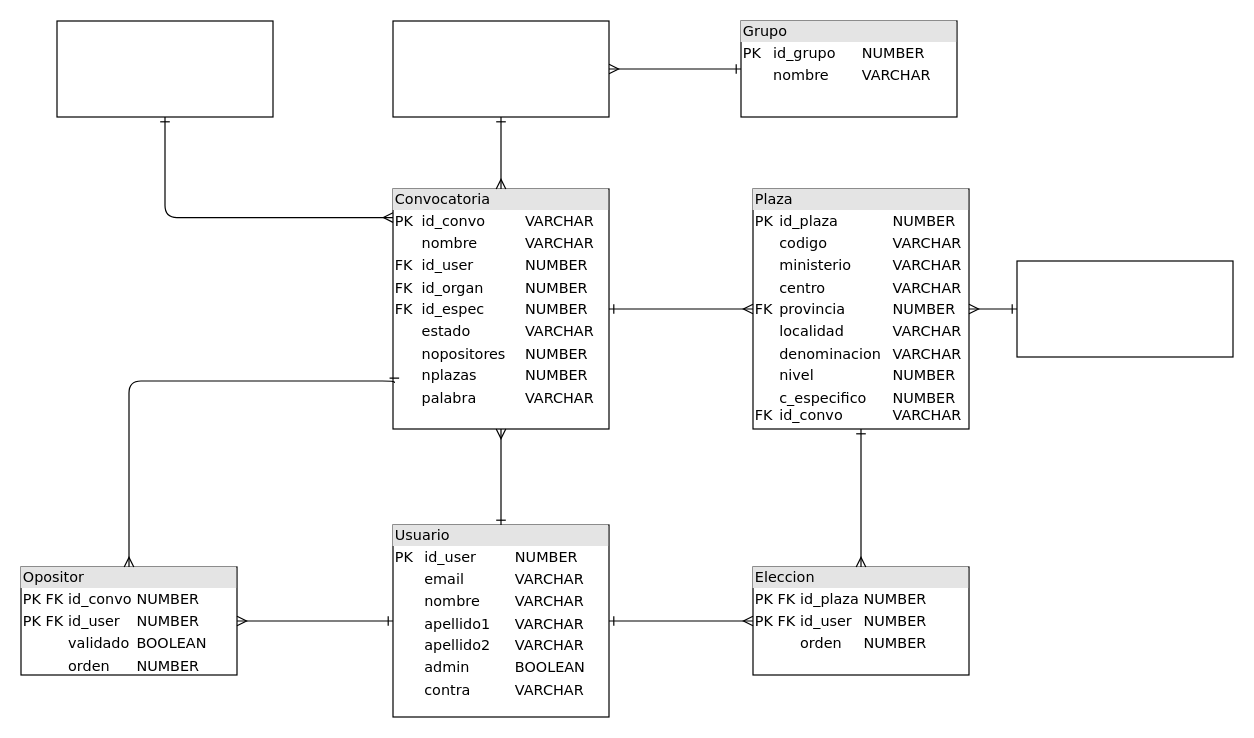
This 1254x738 diagram has some shape labels left out. Each missing label, with the box of its shape:
Especialidad PK id_espec NUMBER nombre VARCHAR FK id_grupo NUMBER: (392, 20, 609, 117)
Organismo PK id_organ NUMBER nombre VARCHAR: (56, 20, 273, 117)
Provincia PK id_provi NUMBER nombre VARCHAR: (1016, 260, 1233, 357)
